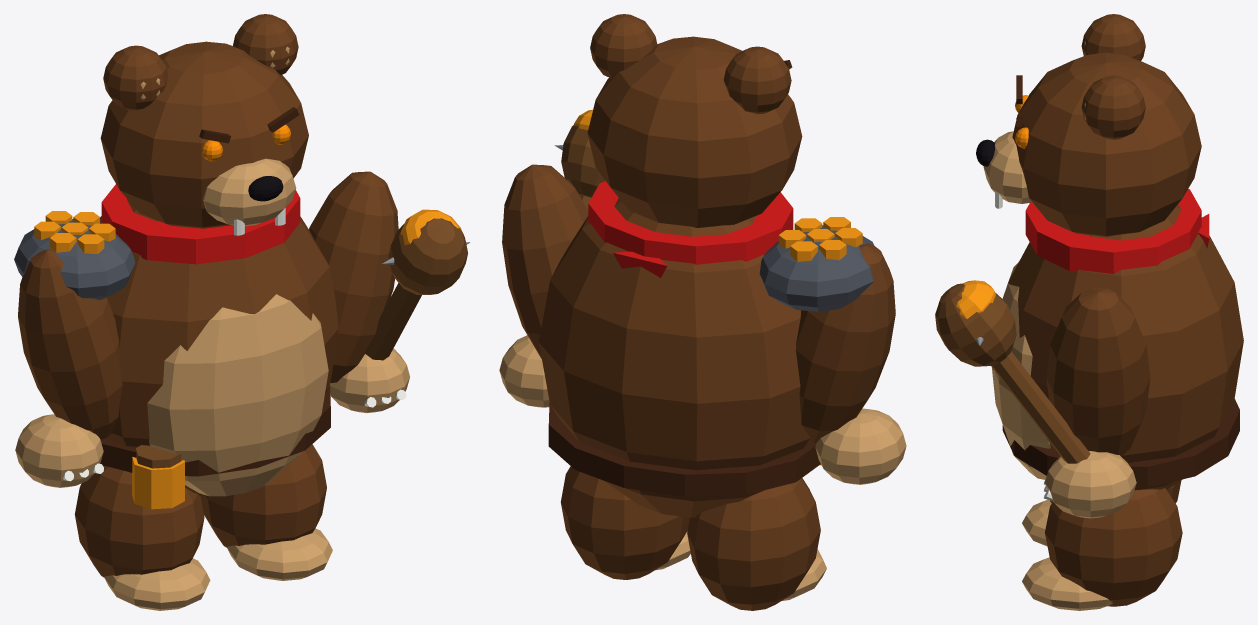
File: OsoGuardian.fbx
3 views of the same model, side by side, from view 1: azimuth 30°, elevation 25°; view 2: azimuth 150°, elevation 25°; view 3: azimuth 270°, elevation 25° (orthographic). The views are drawn at different scales.
Parts seen in each view (by area): view 1: Cuerpo, Brillo_Naranja; view 2: Cuerpo; view 3: Cuerpo.
Boxes of the visible parts, x1,y1,x2,y2 form: Cuerpo: [14, 14, 470, 610]; Brillo_Naranja: [202, 124, 290, 161]; Cuerpo: [499, 14, 906, 610]; Cuerpo: [935, 14, 1243, 610].
Size of the model in its own units: 575 by 757 by 403.
Materials: 1 (1 with a texture image).
